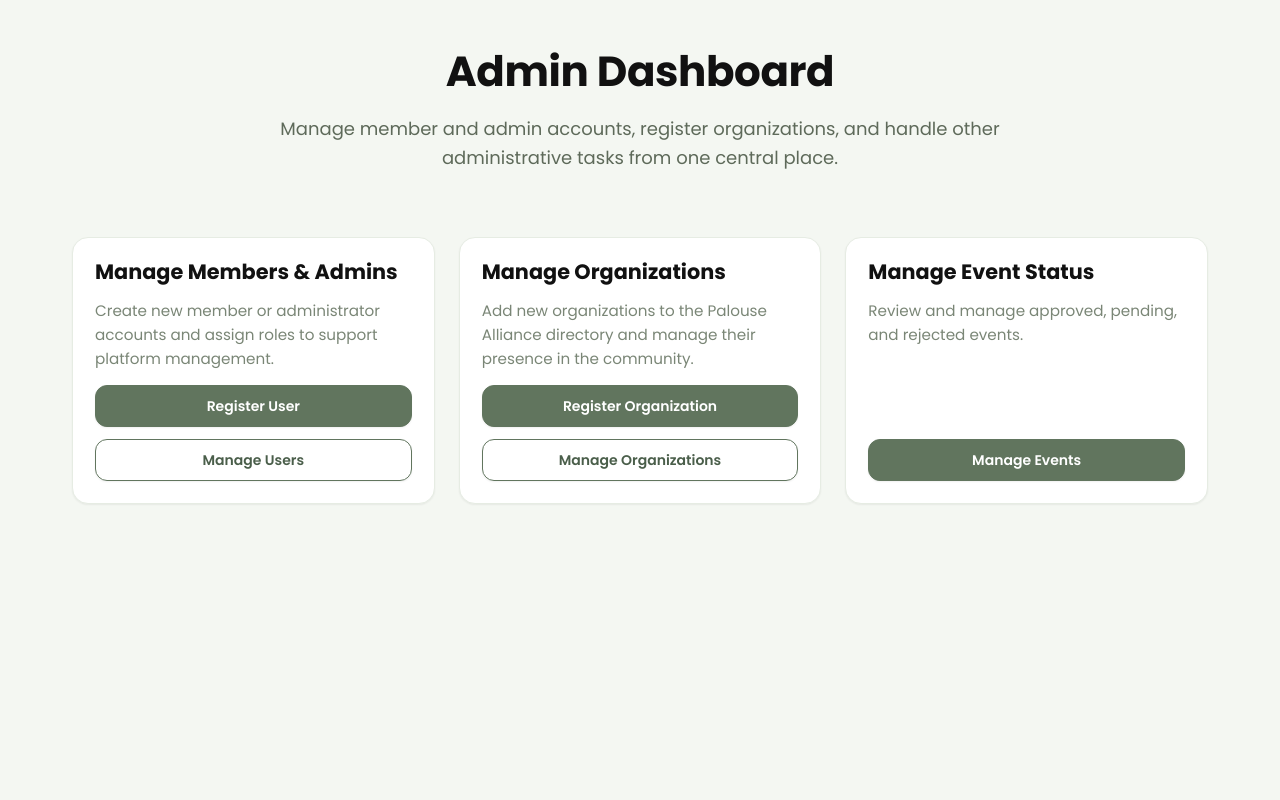
Test: Admin › opens register organization popup when the button is clicked
Click the button "Register Organization".
click(640, 406)  # box [482, 386, 798, 428]
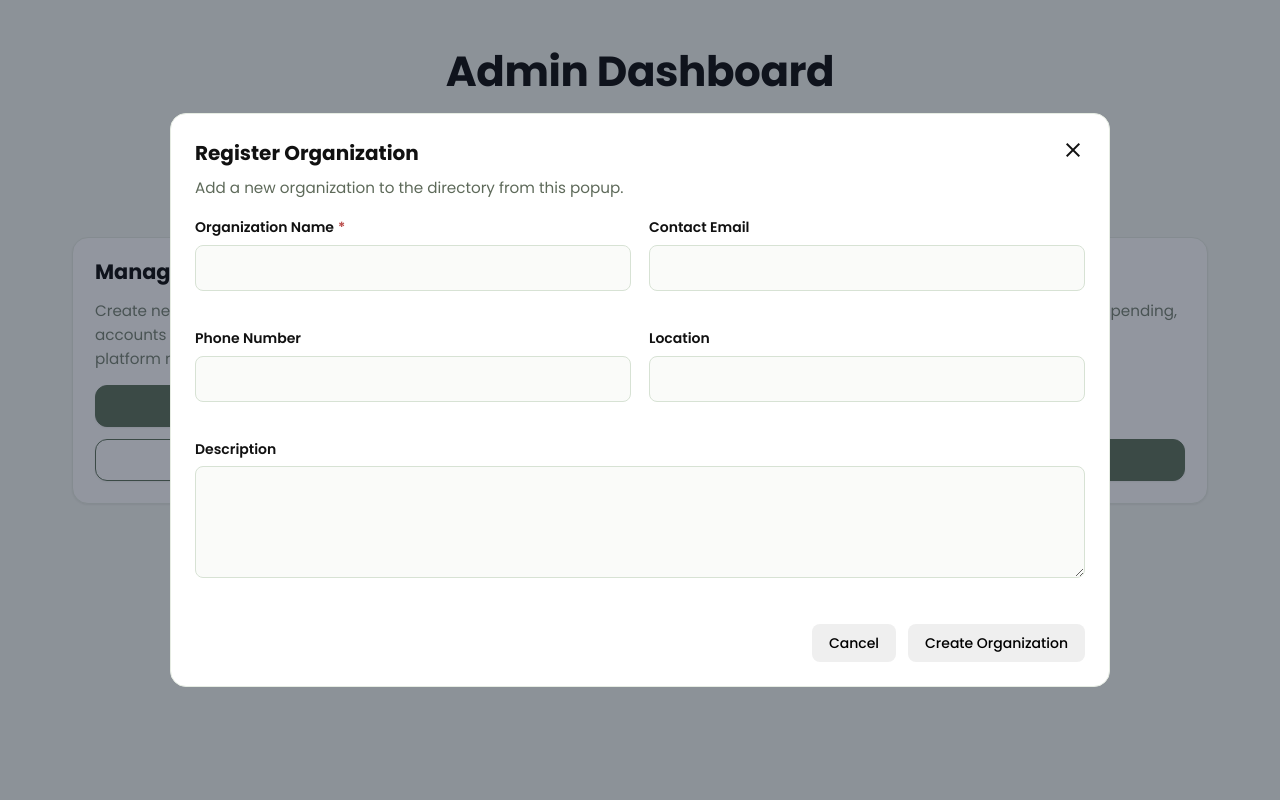
Now the heading "Register Organization" is shown, box [195, 139, 419, 167]
